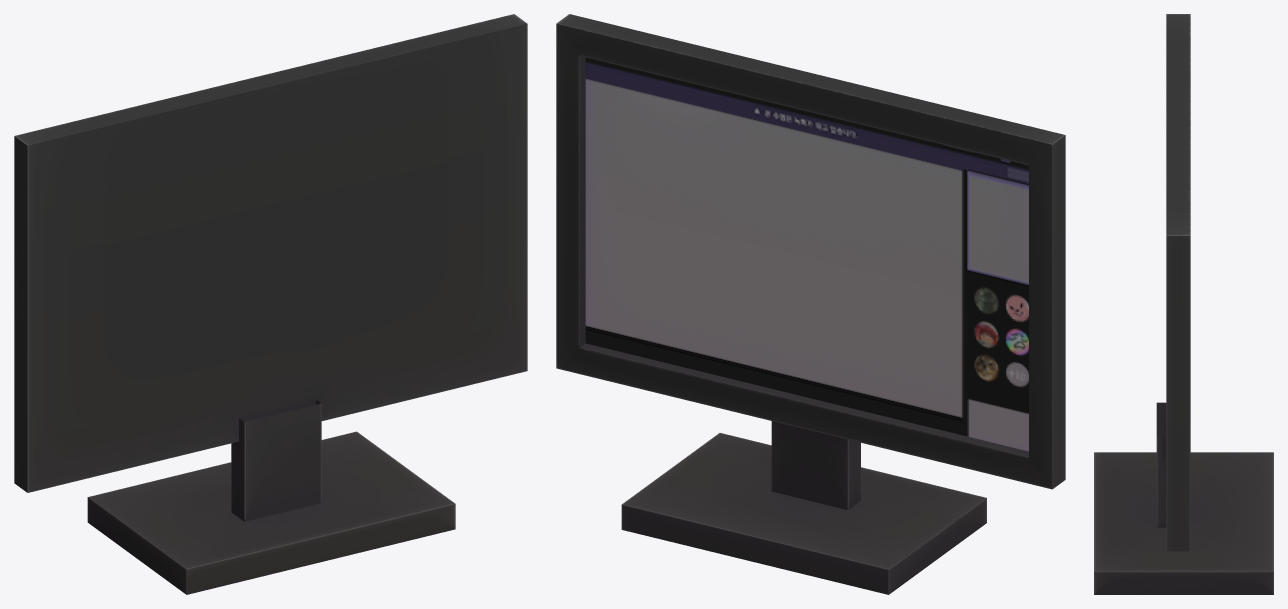
The model's file is monitor.fbx.
3 views of the same model, side by side, from view 1: azimuth 30°, elevation 25°; view 2: azimuth 150°, elevation 25°; view 3: azimuth 270°, elevation 25° (orthographic). The views are drawn at different scales.
Visible parts, largest first — view 1: Box001.001; view 2: Box001.001; view 3: Box001.001.
Boxes of the visible parts, x1,y1,x2,y2 form: Box001.001: (14, 14, 527, 594); Box001.001: (556, 14, 1065, 594); Box001.001: (1094, 14, 1273, 594).
Size of the model in its own units: 54.4 by 46.72 by 18.63.
